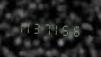five: (62, 20, 70, 38)
one: (17, 17, 25, 35), (26, 18, 34, 35), (53, 20, 61, 37)
seven: (44, 19, 52, 37)
six: (71, 21, 79, 39)
three: (35, 18, 43, 36)
